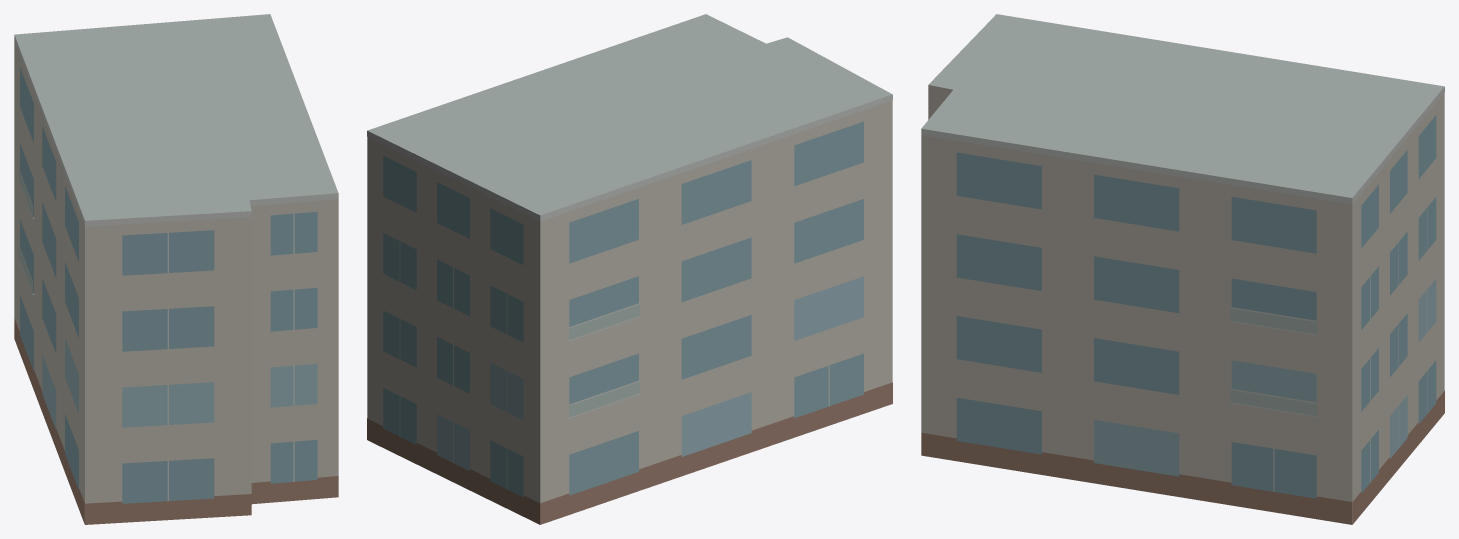
Rendered from survey-upis-32871862.glb.
3 views of the same model, side by side, from view 1: azimuth 30°, elevation 25°; view 2: azimuth 150°, elevation 25°; view 3: azimuth 270°, elevation 25° (orthographic). The views are drawn at different scales.
Parts seen in each view (by area): view 1: survey-upis-32871862.tmp; view 2: survey-upis-32871862.tmp; view 3: survey-upis-32871862.tmp.
Part boxes in pixels (x1=…): survey-upis-32871862.tmp: x1=14, y1=14, x2=338, y2=524; survey-upis-32871862.tmp: x1=367, y1=14, x2=892, y2=524; survey-upis-32871862.tmp: x1=921, y1=14, x2=1444, y2=524.
Bounding box in the file's own units: 15.11 × 12.5 × 18.16.
